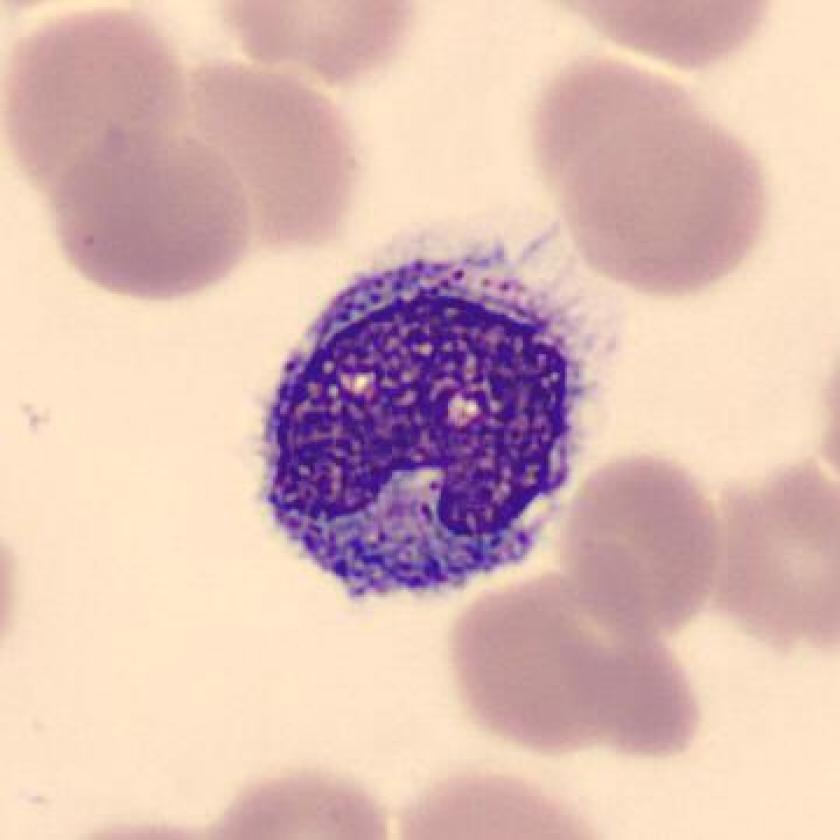monocyte: (232, 202, 610, 621)
